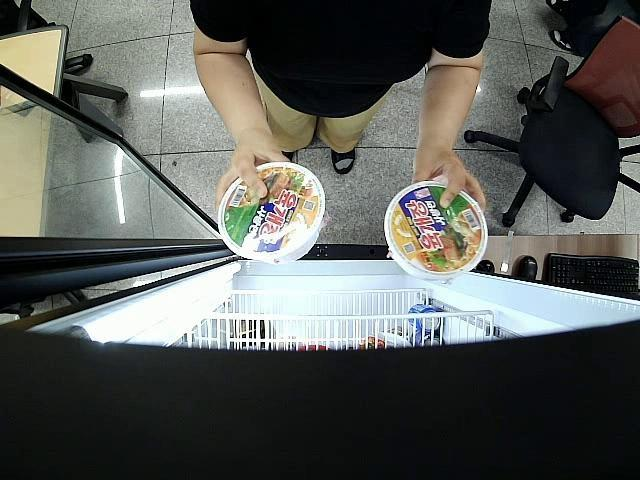09_yukGaeJang: (218, 162, 328, 266), (384, 182, 488, 283)
